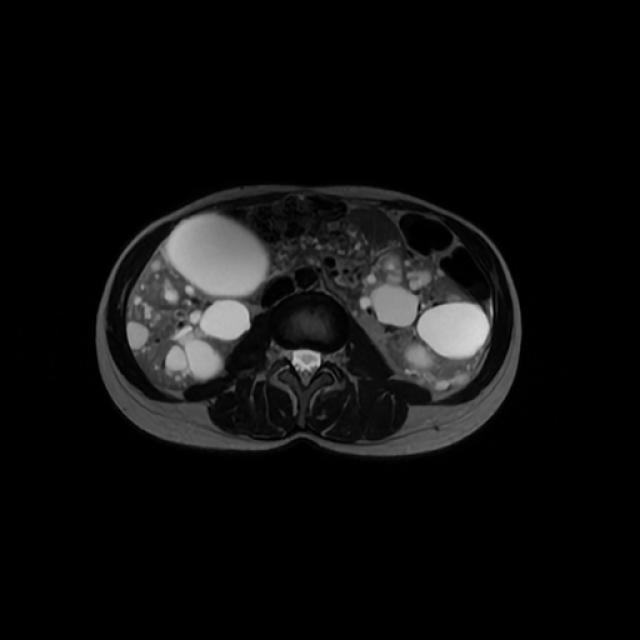sag: (125, 210, 270, 393)
sol: (359, 246, 493, 396)
